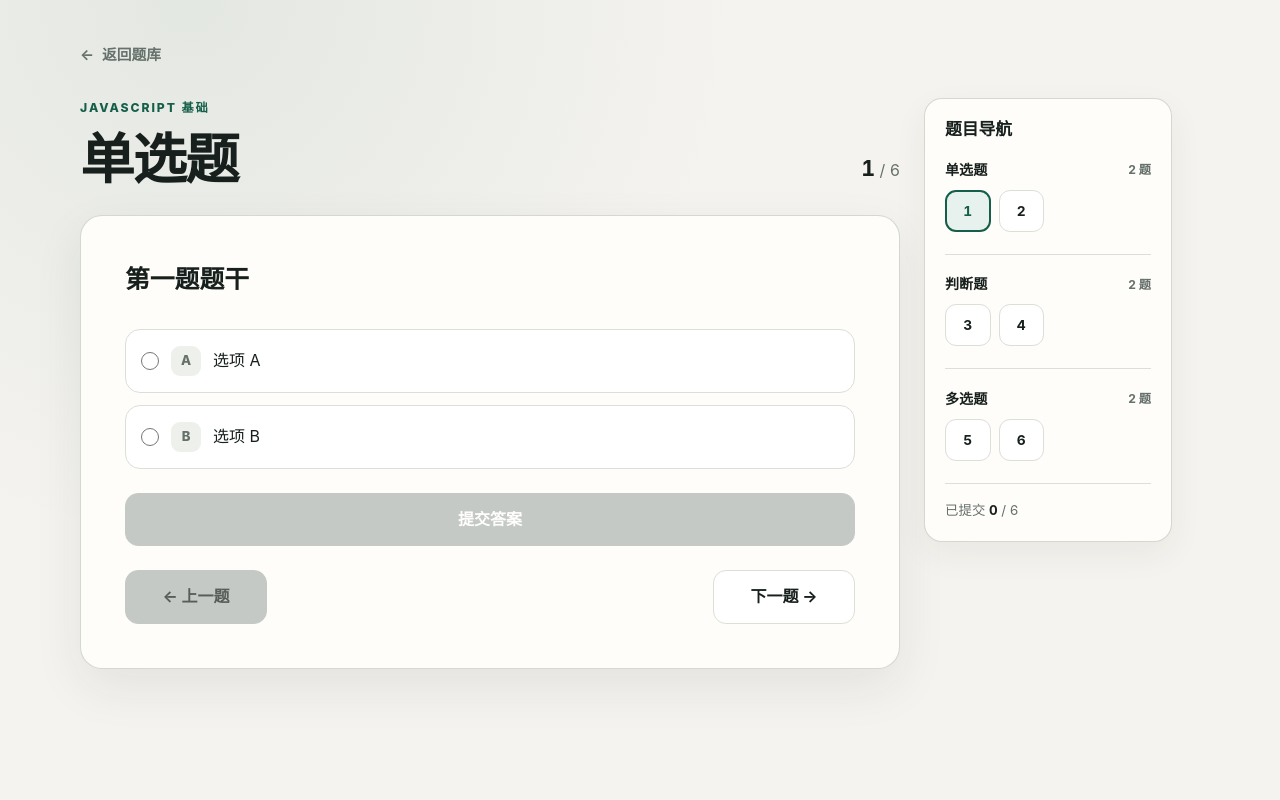
PracticePage › resets saved attempts after a version conflict
The width and height of the screenshot is (1280, 800).
Expected: the text "第一题题干" is shown, [125,264,249,294]
Click the radio button labelled "A 选项 A": (150, 361) [141,352,159,370]
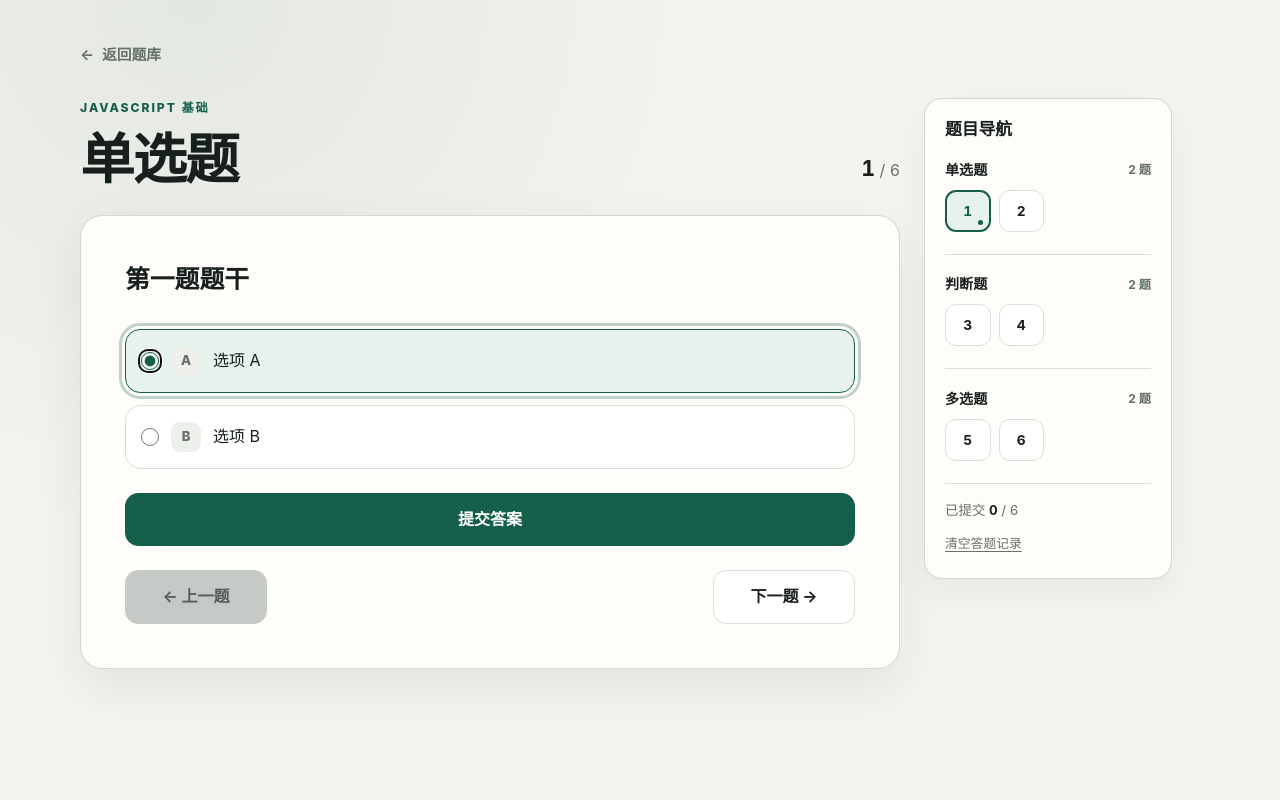
Click the button "提交答案": (490, 519) [125,493,855,546]
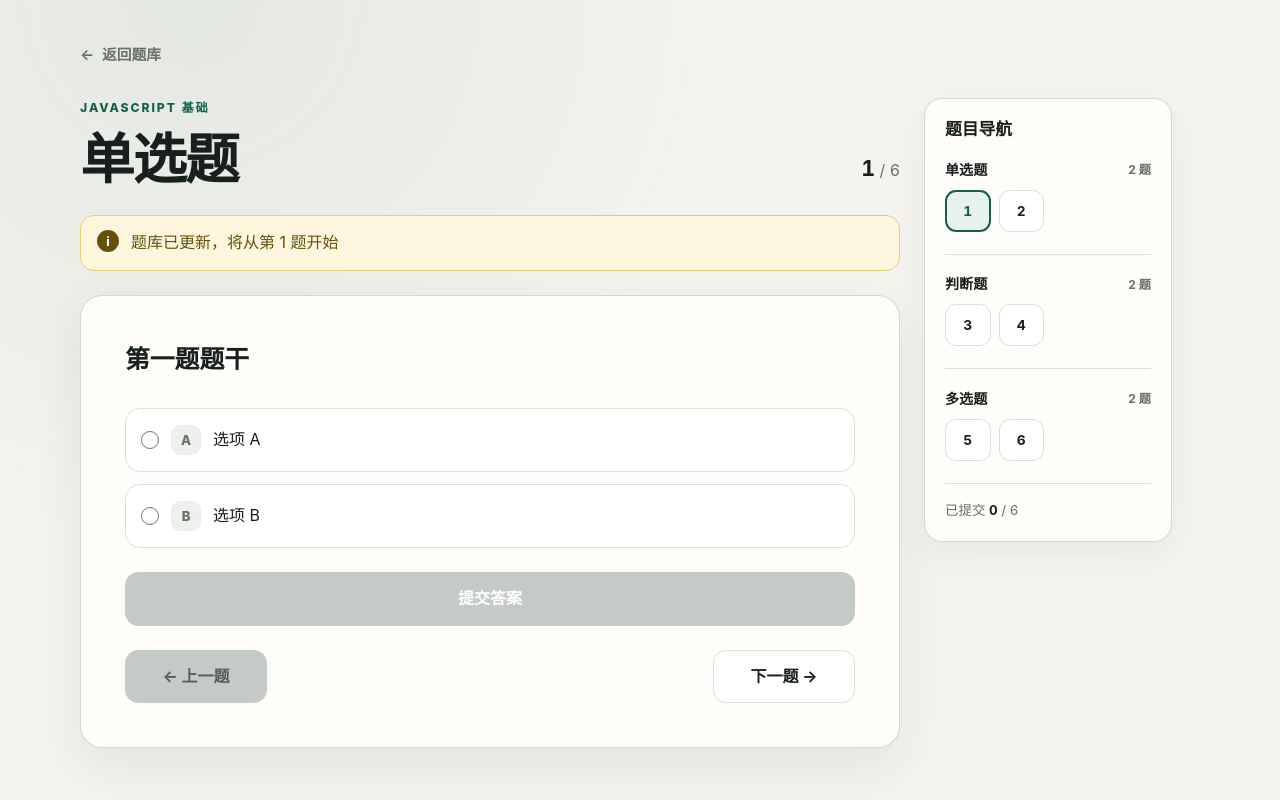
Expected: the text "题库已更新，将从第 1 题开始" is shown, [131,230,338,256]
